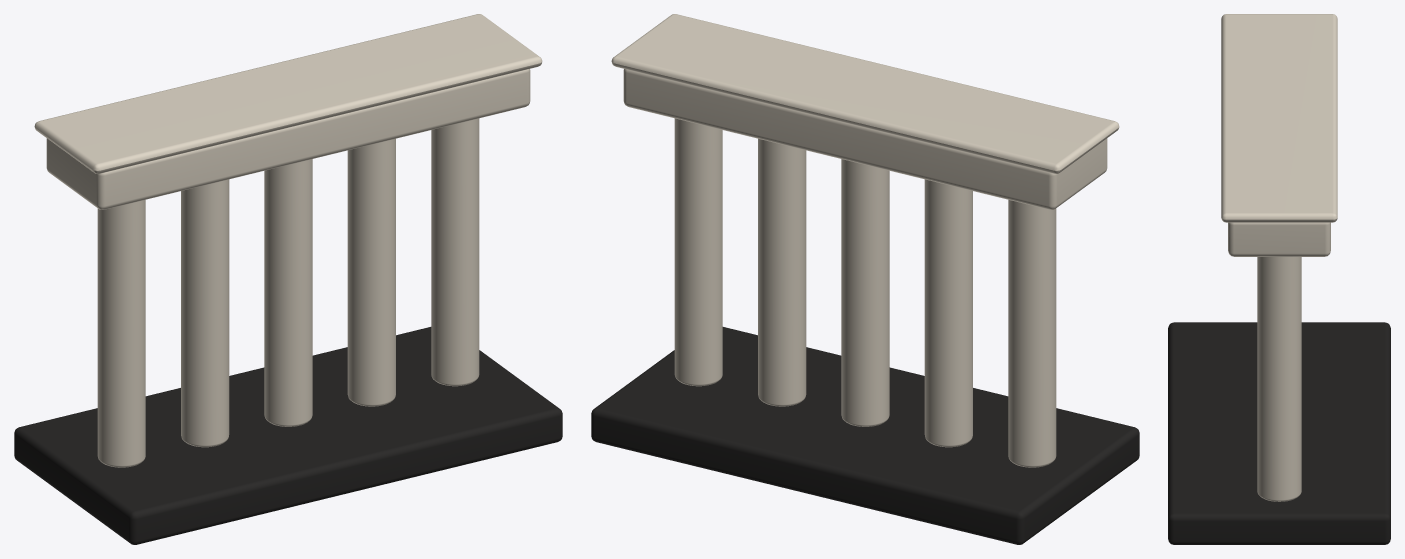
File: VSV-007.glb
3 renders of one model, left to right at view 1: azimuth 30°, elevation 25°; view 2: azimuth 150°, elevation 25°; view 3: azimuth 270°, elevation 25°, orthographic. The views are drawn at different scales.
Parts seen in each view (by area): view 1: VSV-007_colonnade__foundation, VSV-007_colonnade__cap, VSV-007_colonnade__entablature, VSV-007_colonnade__column, VSV-007_colonnade__column.001, VSV-007_colonnade__column.004, VSV-007_colonnade__column.003, VSV-007_colonnade__column.002; view 2: VSV-007_colonnade__foundation, VSV-007_colonnade__cap, VSV-007_colonnade__entablature, VSV-007_colonnade__column, VSV-007_colonnade__column.001, VSV-007_colonnade__column.004, VSV-007_colonnade__column.003, VSV-007_colonnade__column.002; view 3: VSV-007_colonnade__foundation, VSV-007_colonnade__cap, VSV-007_colonnade__column.004, VSV-007_colonnade__entablature.
Boxes of the visible parts, left/top/right/bottom form: VSV-007_colonnade__foundation: left=14, top=327, right=562, bottom=544; VSV-007_colonnade__cap: left=34, top=14, right=542, bottom=173; VSV-007_colonnade__entablature: left=46, top=69, right=530, bottom=209; VSV-007_colonnade__column: left=97, top=200, right=145, bottom=467; VSV-007_colonnade__column.001: left=181, top=179, right=229, bottom=447; VSV-007_colonnade__column.004: left=431, top=118, right=479, bottom=386; VSV-007_colonnade__column.003: left=347, top=138, right=395, bottom=406; VSV-007_colonnade__column.002: left=264, top=159, right=312, bottom=426; VSV-007_colonnade__foundation: left=591, top=327, right=1139, bottom=544; VSV-007_colonnade__cap: left=611, top=14, right=1119, bottom=173; VSV-007_colonnade__entablature: left=623, top=69, right=1107, bottom=209; VSV-007_colonnade__column: left=1008, top=200, right=1056, bottom=467; VSV-007_colonnade__column.001: left=924, top=179, right=972, bottom=447; VSV-007_colonnade__column.004: left=674, top=118, right=722, bottom=386; VSV-007_colonnade__column.003: left=758, top=138, right=806, bottom=406; VSV-007_colonnade__column.002: left=841, top=159, right=889, bottom=426; VSV-007_colonnade__foundation: left=1168, top=322, right=1390, bottom=544; VSV-007_colonnade__cap: left=1221, top=14, right=1337, bottom=222; VSV-007_colonnade__column.004: left=1257, top=257, right=1301, bottom=501; VSV-007_colonnade__entablature: left=1228, top=222, right=1330, bottom=256.
Bounding box in the file's own units: 2.8 × 2.16 × 1.3.
